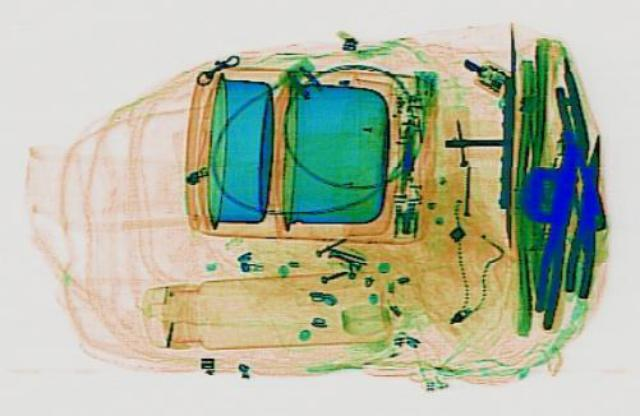Pliers: (522, 159, 582, 328), (558, 130, 612, 296)
